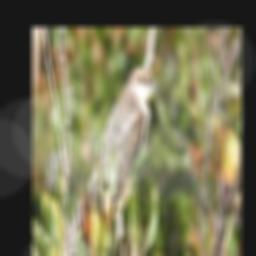Cuckoo: (56, 66, 159, 256)
